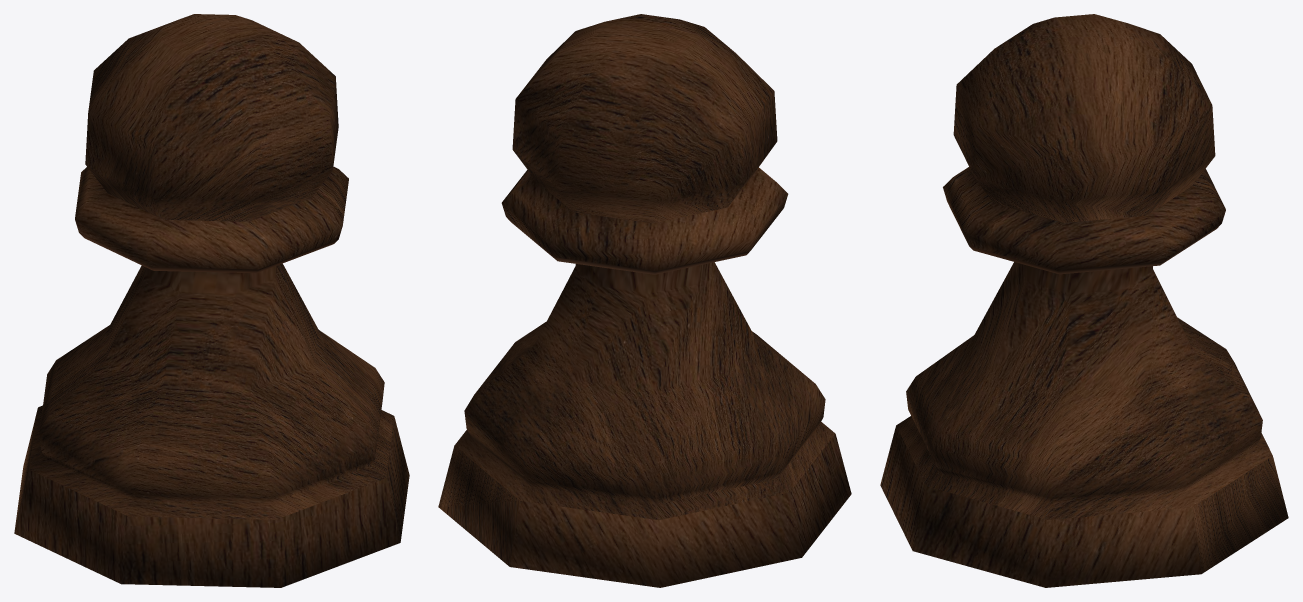
3 views of the same model, side by side, from view 1: azimuth 30°, elevation 25°; view 2: azimuth 150°, elevation 25°; view 3: azimuth 270°, elevation 25° (orthographic).
Visible parts, largest first — view 1: BlackPawn.005; view 2: BlackPawn.005; view 3: BlackPawn.005.
Boxes of the visible parts, box(x1,y1,x2,y2) form: BlackPawn.005: box(14, 14, 409, 587); BlackPawn.005: box(438, 14, 851, 587); BlackPawn.005: box(880, 14, 1288, 587).
Size of the model in its own units: 0.0275 by 0.0349 by 0.0275.
Materials: 1 (1 with a texture image).
